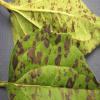Tomato Septoria leaf spot: (4, 27, 99, 99), (7, 1, 99, 58)
